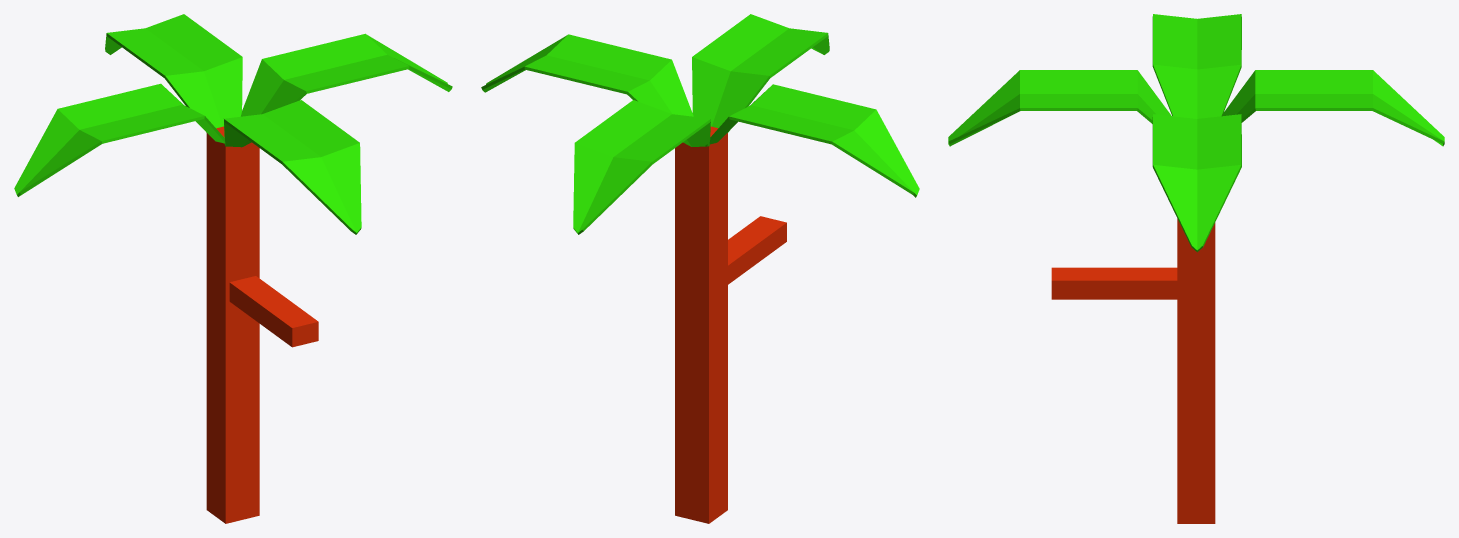
File: Palm.fbx
3 renders of one model, left to right at view 1: azimuth 30°, elevation 25°; view 2: azimuth 150°, elevation 25°; view 3: azimuth 270°, elevation 25°, orthographic.
Visible parts, largest first — view 1: Cube; view 2: Cube; view 3: Cube.
Part boxes in pixels (<box>): Cube: <box>14,14,452,523</box>; Cube: <box>481,14,919,523</box>; Cube: <box>948,14,1444,523</box>.
Bounding box in the file's own units: 471 × 441 × 465.
